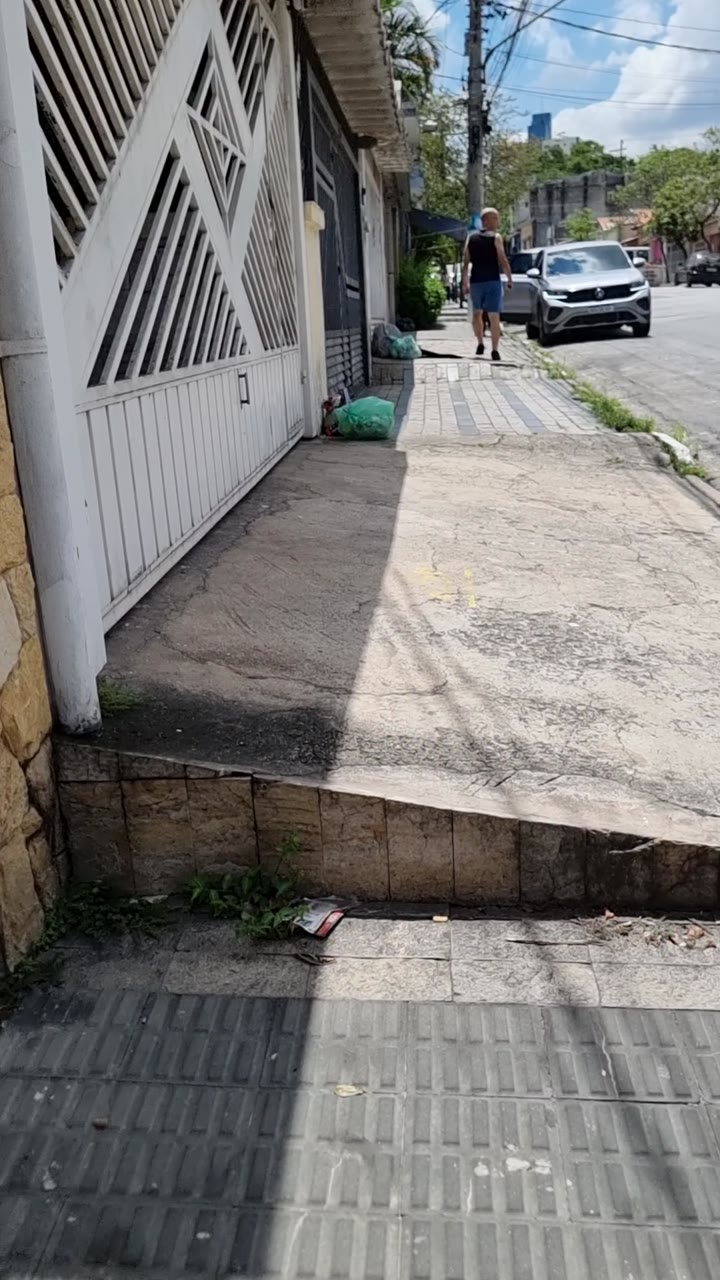desnivel: (36, 755, 720, 922)
obstaculo: (332, 396, 394, 440)
